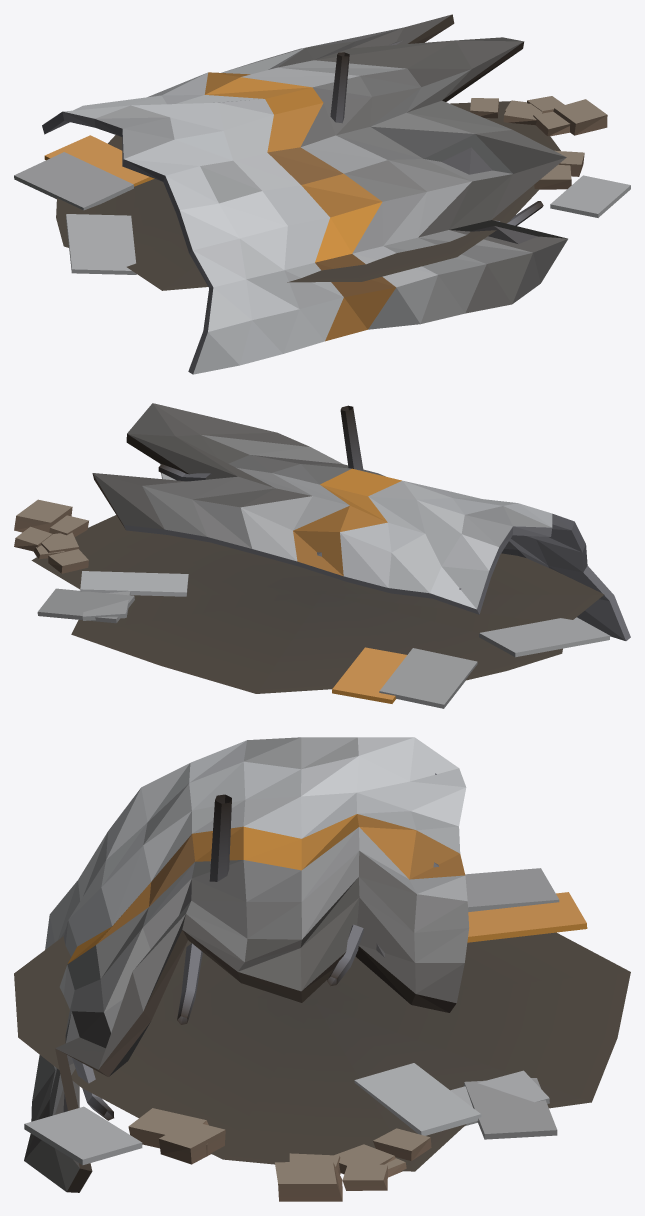
Rendered from wreck_antenna_searched_a.glb.
The picture shows the model from 3 angles, top to bottom: view 1: azimuth 30°, elevation 25°; view 2: azimuth 150°, elevation 25°; view 3: azimuth 270°, elevation 25°; orthographic projection. The views are drawn at different scales.
Parts seen in each view (by area): view 1: wreck_antenna_searched_a; view 2: wreck_antenna_searched_a; view 3: wreck_antenna_searched_a.
Part boxes in pixels (x1,y1,x2,y2): wreck_antenna_searched_a: [14, 14, 630, 374]; wreck_antenna_searched_a: [14, 403, 630, 708]; wreck_antenna_searched_a: [14, 737, 630, 1201].
Size of the model in its own units: 3.34 by 1.29 by 2.39.
